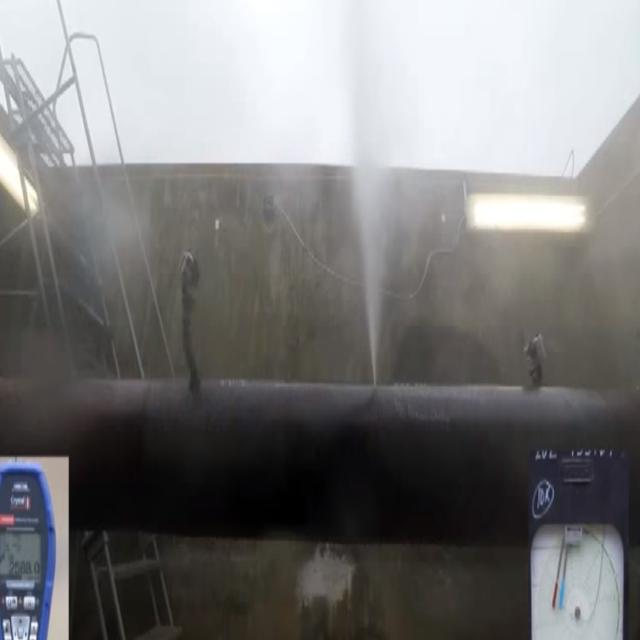leak: (353, 165, 399, 389)
